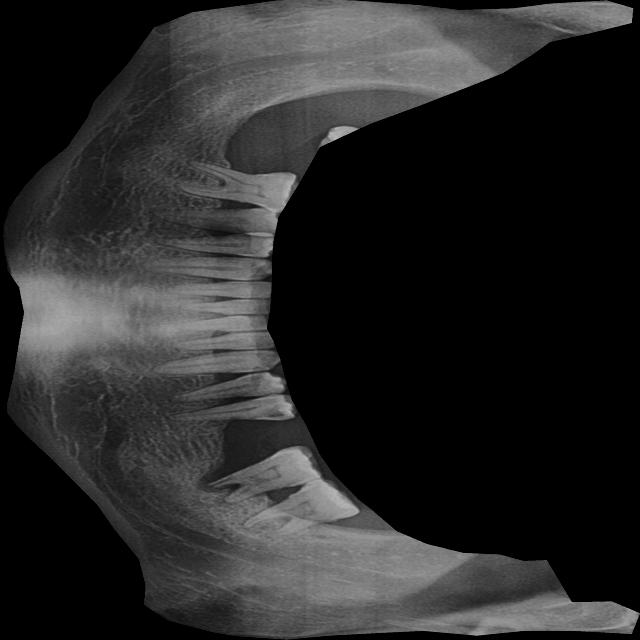mandibula: (0, 0, 639, 640)
